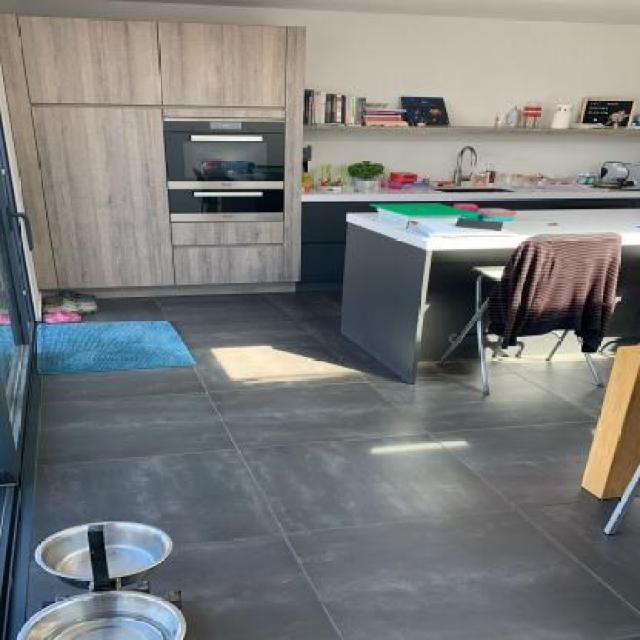Floor: (7, 290, 639, 640)
